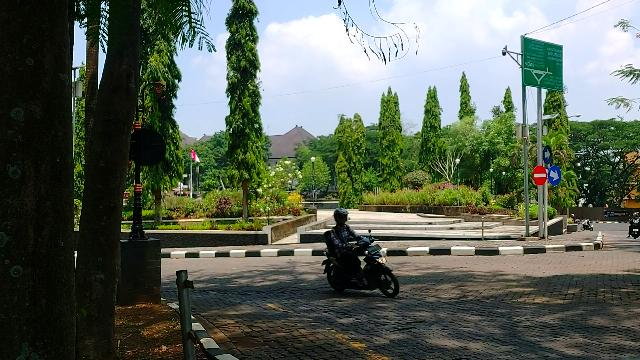helm: (334, 208, 351, 226)
motor: (323, 230, 402, 300)
